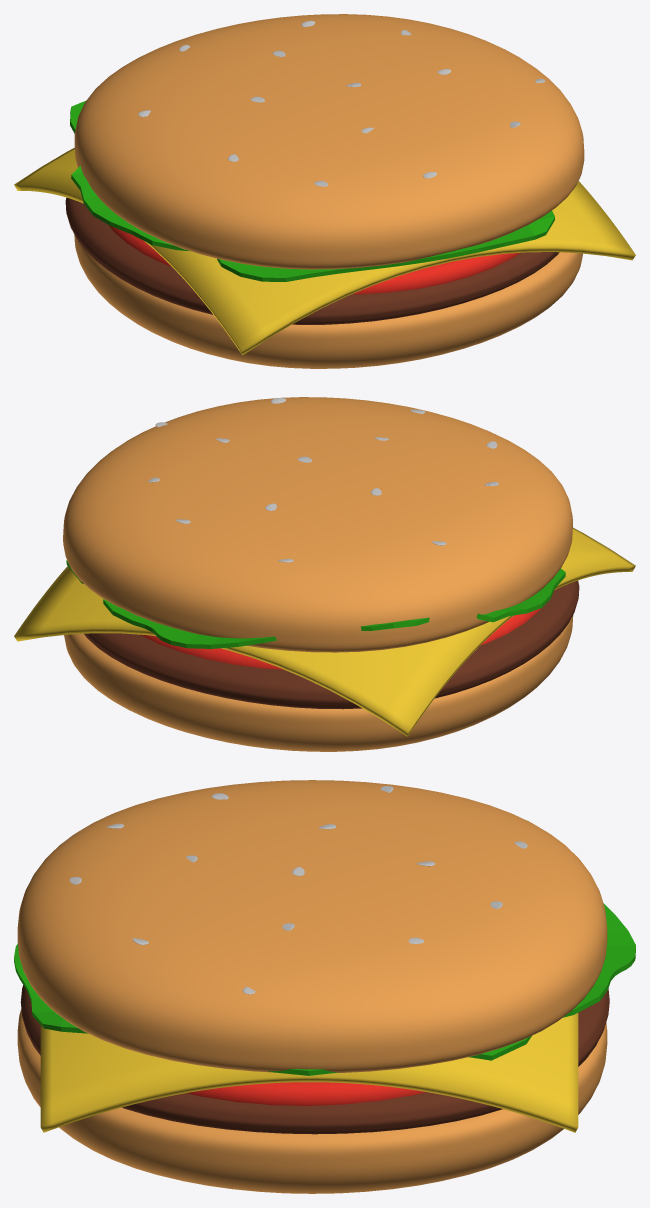
Rendered from hamburger.glb.
3 views of the same model, one above another, from view 1: azimuth 30°, elevation 25°; view 2: azimuth 150°, elevation 25°; view 3: azimuth 270°, elevation 25° (orthographic). The views are drawn at different scales.
Parts seen in each view (by area): view 1: Cube.002, Cube, SurfPatch, Cube.001, Plane.001, Torus; view 2: Cube.002, Cube, SurfPatch, Cube.001, Plane.001, Torus; view 3: Cube.002, Cube, SurfPatch, Cube.001, Plane.001, Torus.
Boxes of the visible parts, <box> form: Cube.002: <box>74,14,584,269</box>; Cube: <box>74,235,582,368</box>; SurfPatch: <box>14,148,635,355</box>; Cube.001: <box>65,197,559,324</box>; Plane.001: <box>70,101,554,281</box>; Torus: <box>109,225,520,294</box>; Cube.002: <box>63,397,572,652</box>; Cube: <box>64,615,573,751</box>; SurfPatch: <box>14,527,635,736</box>; Cube.001: <box>84,580,579,709</box>; Plane.001: <box>66,560,565,648</box>; Torus: <box>140,608,540,669</box>; Cube.002: <box>17,780,607,1073</box>; Cube: <box>17,1009,607,1193</box>; SurfPatch: <box>40,1013,578,1132</box>; Cube.001: <box>20,985,609,1134</box>; Plane.001: <box>14,820,635,1075</box>; Torus: <box>186,1082,425,1105</box>.
Size of the model in its own units: 9.51 by 4.3 by 9.67.
